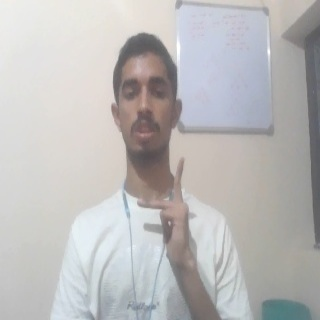Face: (109, 31, 183, 158)
Okay: (134, 155, 194, 275)
